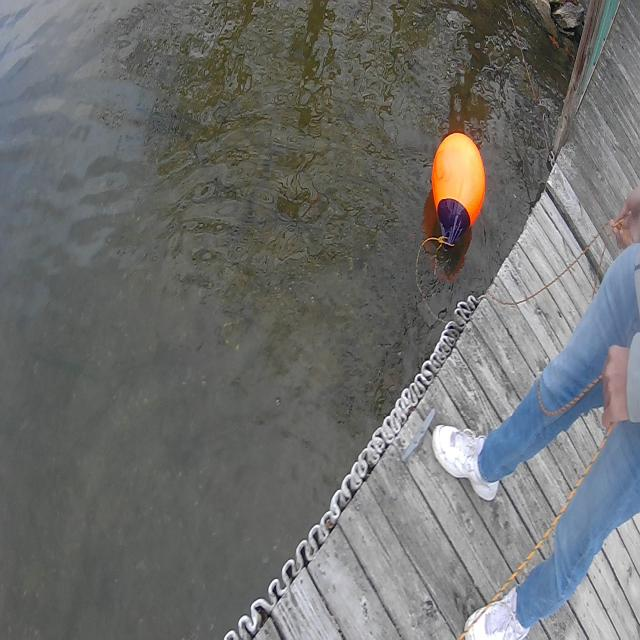Buoy: (429, 130, 486, 228)
